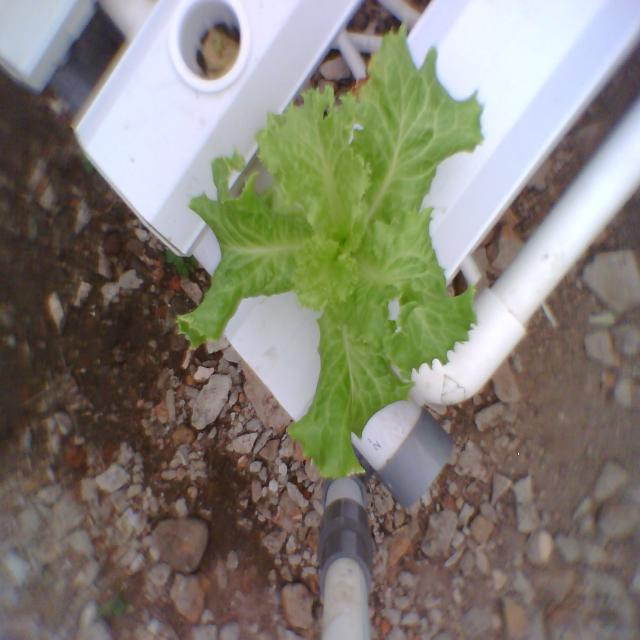FN: (166, 23, 492, 493)
